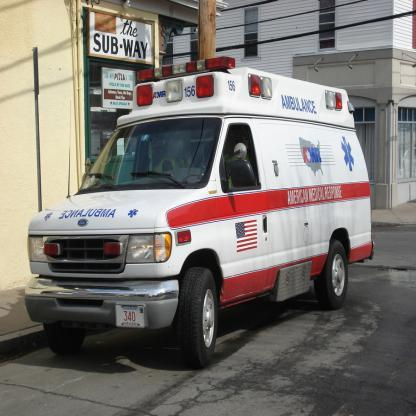ambulance_off: (25, 55, 373, 364)
